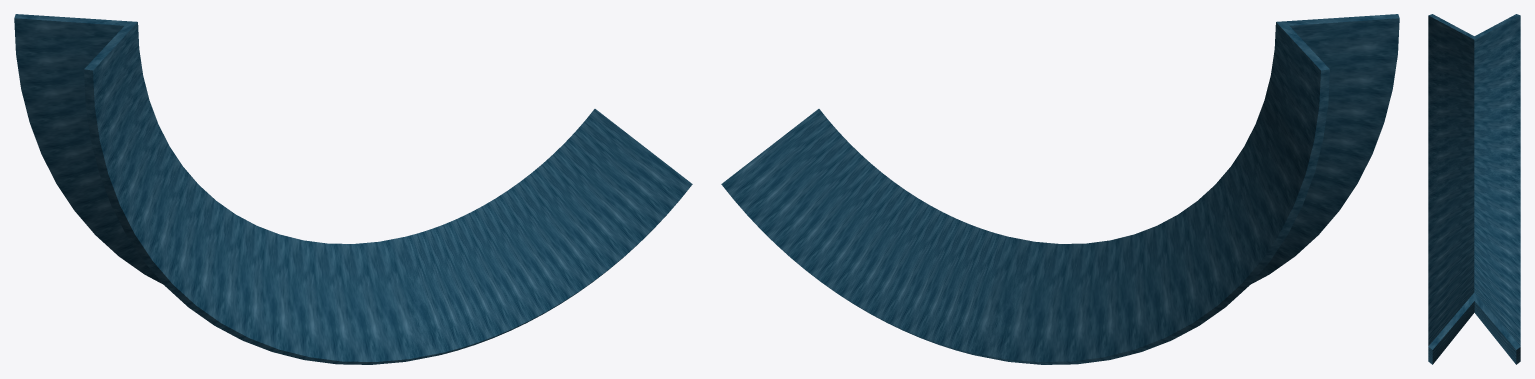
File: FirstRamp.glb
3 views of the same model, side by side, from view 1: azimuth 30°, elevation 25°; view 2: azimuth 150°, elevation 25°; view 3: azimuth 270°, elevation 25° (orthographic). The views are drawn at different scales.
Parts seen in each view (by area): view 1: ramp; view 2: ramp; view 3: ramp.
Part boxes in pixels (x1,y1,x2,y2): ramp: (14, 14, 692, 364); ramp: (721, 14, 1399, 364); ramp: (1428, 14, 1520, 364).
Size of the model in its own units: 2328 by 1364 by 512.
Materials: 1 (1 with a texture image).
